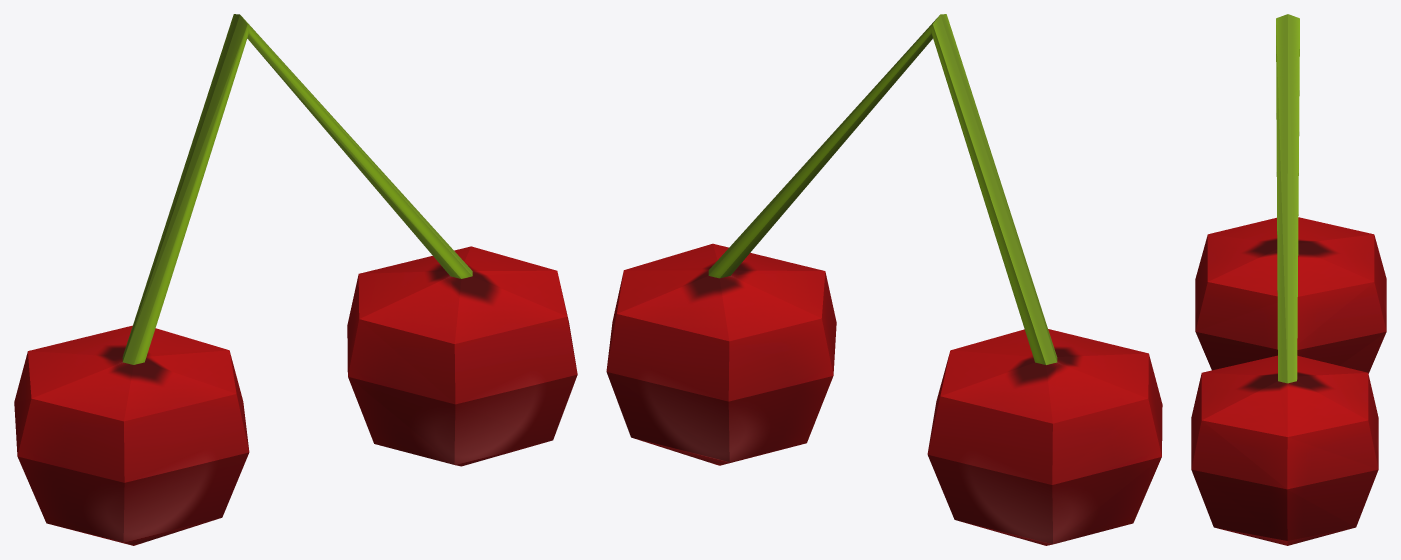
Rendered from cherry.fbx.
The picture shows the model from 3 angles, left to right: view 1: azimuth 30°, elevation 25°; view 2: azimuth 150°, elevation 25°; view 3: azimuth 270°, elevation 25°; orthographic projection. The views are drawn at different scales.
Parts seen in each view (by area): view 1: cherry; view 2: cherry; view 3: cherry.
Part boxes in pixels (x1,y1,x2,y2): cherry: (14,14,577,545); cherry: (606,14,1162,545); cherry: (1191,14,1386,545).
Bounding box in the file's own units: 183 × 161 × 64.86.
